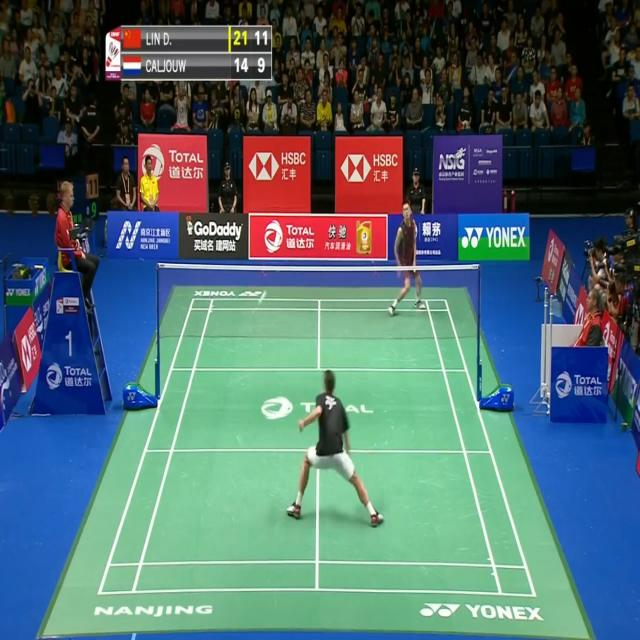Player1: (286, 365, 388, 528)
Player2: (385, 204, 429, 316)
